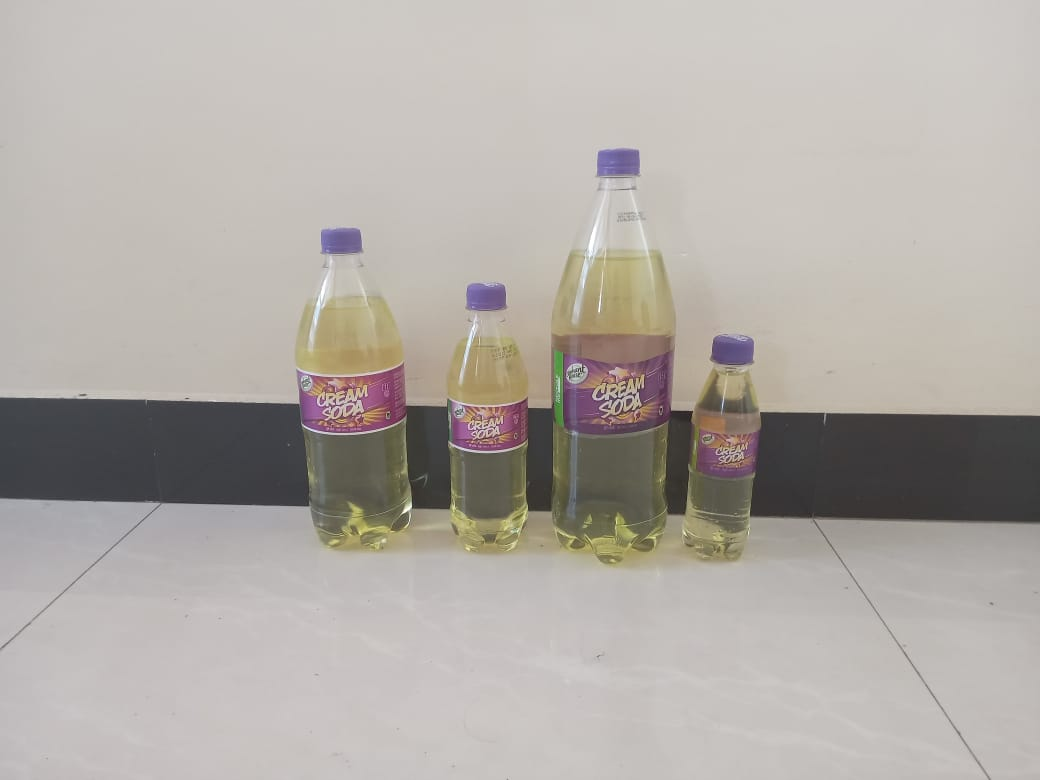L: (552, 144, 677, 568)
M: (292, 230, 415, 550)
S: (445, 283, 532, 556)
Xs: (682, 338, 762, 566)
